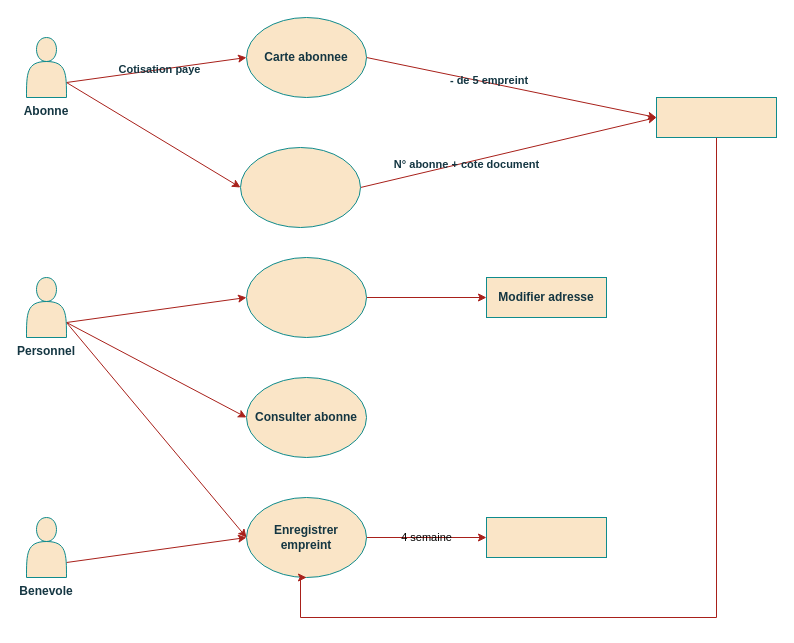
Some shapes in this 794 by 643 pixel diagram are drawn without their labels. Each missing label, with the box of its shape:
Consulter document: (240, 146, 360, 228)
Empreinter document: (656, 96, 776, 138)
Enregistrer abonne: (246, 256, 366, 338)
Relance: (486, 516, 606, 558)
